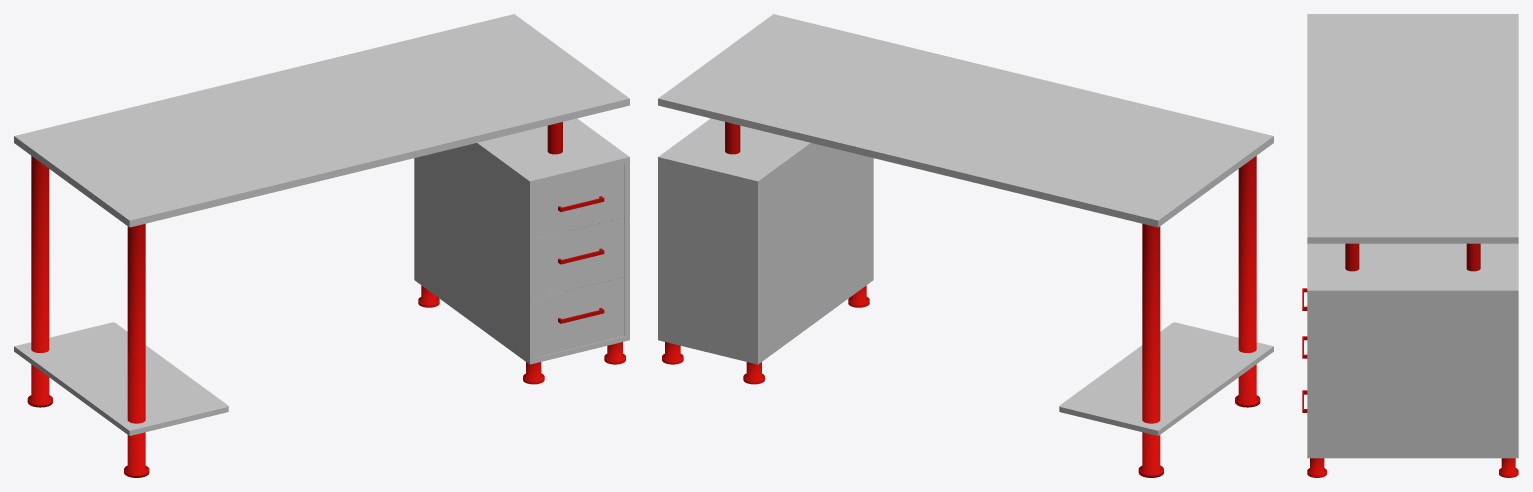
The model's file is Table_2.fbx.
3 views of the same model, side by side, from view 1: azimuth 30°, elevation 25°; view 2: azimuth 150°, elevation 25°; view 3: azimuth 270°, elevation 25° (orthographic). The views are drawn at different scales.
Parts seen in each view (by area): view 1: Table_2, Cube.246, Cube.247, Cube.245; view 2: Table_2; view 3: Table_2.
Boxes of the visible parts, x1,y1,x2,y2 form: Table_2: [14, 14, 629, 477]; Cube.246: [535, 217, 624, 298]; Cube.247: [535, 277, 624, 357]; Cube.245: [535, 163, 624, 238]; Table_2: [658, 14, 1273, 477]; Table_2: [1307, 14, 1518, 477].
Size of the model in its own units: 150 by 75.38 by 61.4.
